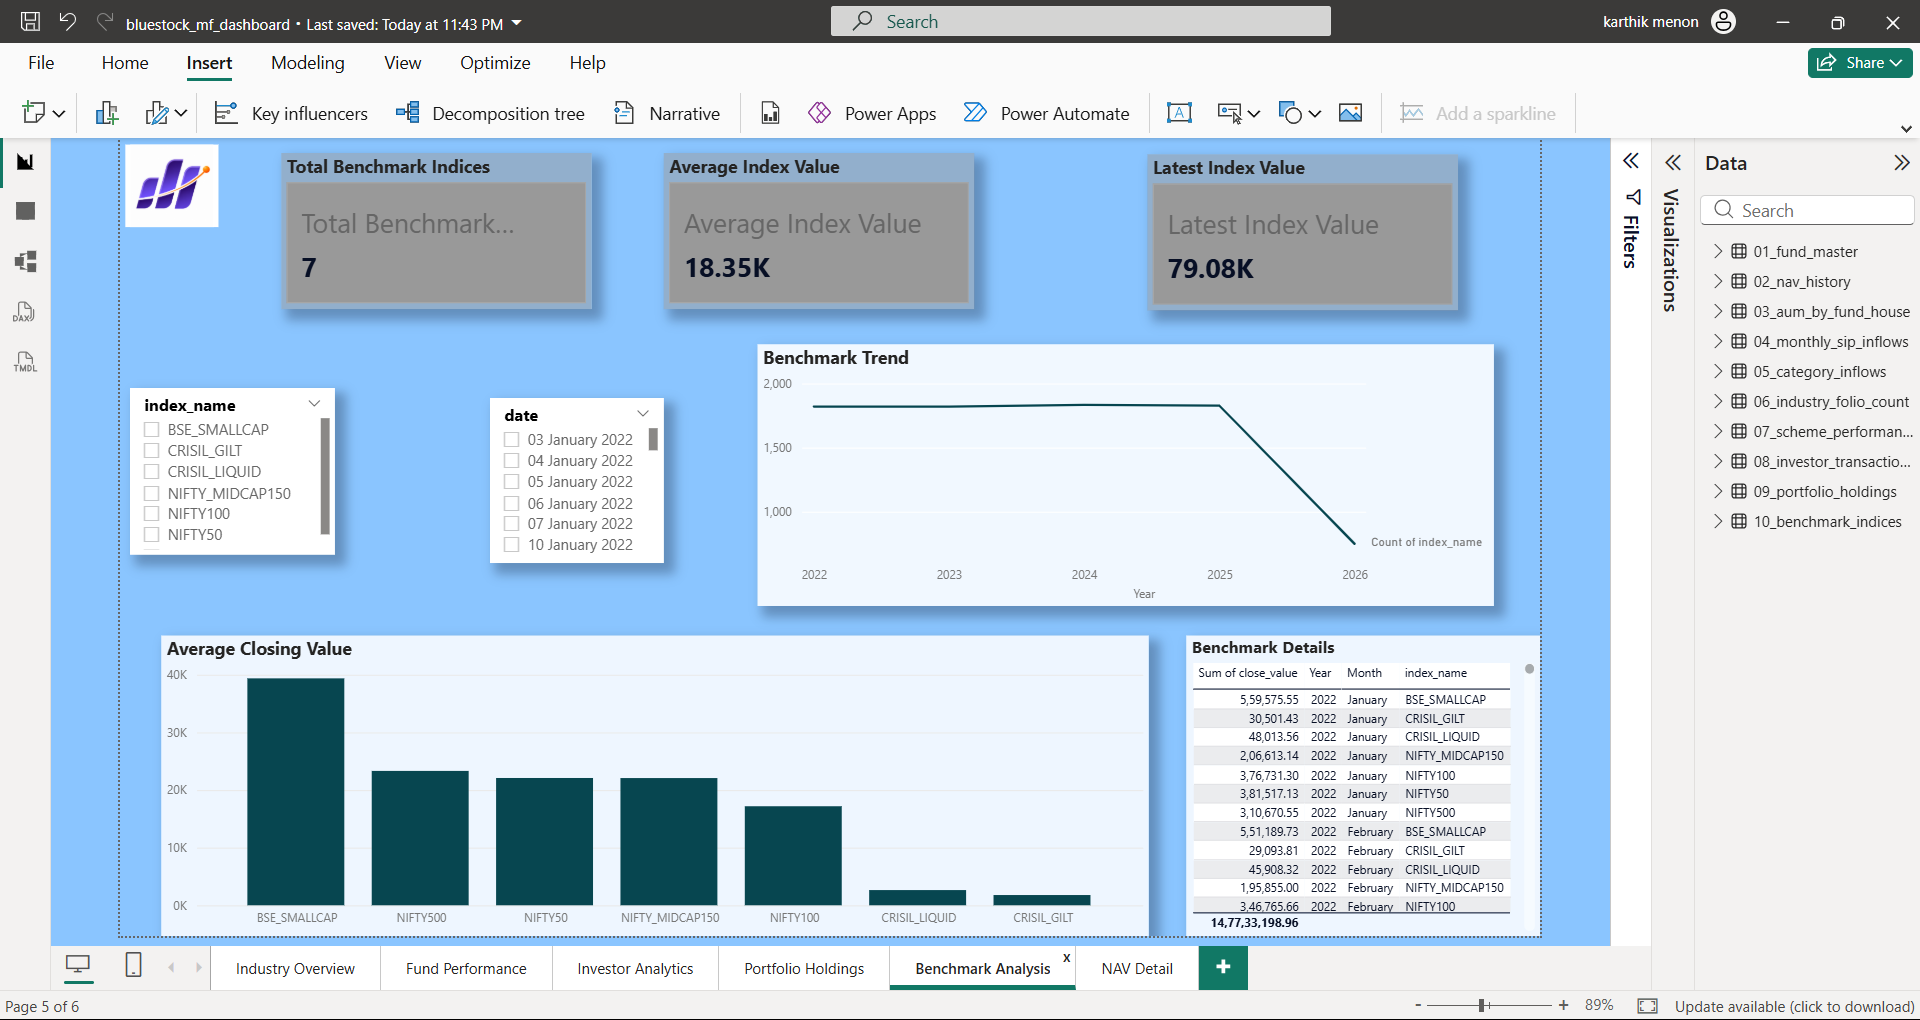

What the dashboard file says about the page in this screenshot:
{"tool":"powerbi","page":{"name":"Benchmark Analysis","canvas":[1280,720],"ordinal":4},"visuals":[{"type":"cardVisual","title":"Total Benchmark Indices","fields":{"Data":["Count(10_benchmark_indices.index_name)"]},"box":[145.5,13.5,280,140.6],"z":0},{"type":"cardVisual","title":"Average Index Value","fields":{"Data":["Avg(10_benchmark_indices.close_value)"]},"box":[490.4,13.5,280,140.6],"z":1000},{"type":"cardVisual","title":"Latest Index Value","fields":{"Data":["Max(10_benchmark_indices.close_value)"]},"box":[926.9,14.7,280,140.6],"z":2000},{"type":"slicer","fields":{"Values":["10_benchmark_indices.index_name"]},"box":[8.6,225,184.6,150.4],"z":3000},{"type":"slicer","fields":{"Values":["10_benchmark_indices.date"]},"box":[333.8,234.8,156.5,149.2],"z":4000},{"type":"lineChart","title":"Benchmark Trend","fields":{"Y":["CountNonNull(10_benchmark_indices.index_name)"],"Category":["10_benchmark_indices.date.Variation.Date Hierarchy.Year","10_benchmark_indices.date.Variation.Date Hierarchy.Quarter","10_benchmark_indices.date.Variation.Date Hierarchy.Month","10_benchmark_indices.date.Variation.Date Hierarchy.Day"]},"box":[574.7,185.9,664,236],"z":5000},{"type":"clusteredColumnChart","title":"Average Closing Value","fields":{"Category":["10_benchmark_indices.index_name"],"Y":["Avg(10_benchmark_indices.close_value)"]},"box":[36.7,448.8,890.2,271.5],"z":6000},{"type":"tableEx","title":"Benchmark Details","fields":{"Values":["Sum(10_benchmark_indices.close_value)","10_benchmark_indices.date.Variation.Date Hierarchy.Year","10_benchmark_indices.date.Variation.Date Hierarchy.Month","10_benchmark_indices.index_name"]},"box":[961.1,448.8,319.2,271.5],"z":7000},{"type":"image","box":[0,1.2,94.2,84.4],"z":7001}]}

Visuals, with their boxes on the page's 1280x720 design canvas (x1, y1, x2, y2). These are canvas units, not pixel positions in the 1920x1020 screenshot, which may show the page scaled, cropped or inside an application window:
"Total Benchmark Indices" cardVisual: locate(146, 14, 426, 154)
"Average Index Value" cardVisual: locate(490, 14, 770, 154)
"Latest Index Value" cardVisual: locate(927, 15, 1207, 155)
slicer - 10_benchmark_indices.index_name: locate(9, 225, 193, 375)
slicer - 10_benchmark_indices.date: locate(334, 235, 490, 384)
"Benchmark Trend" lineChart: locate(575, 186, 1239, 422)
"Average Closing Value" clusteredColumnChart: locate(37, 449, 927, 720)
"Benchmark Details" tableEx: locate(961, 449, 1280, 720)
image: locate(0, 1, 94, 86)
